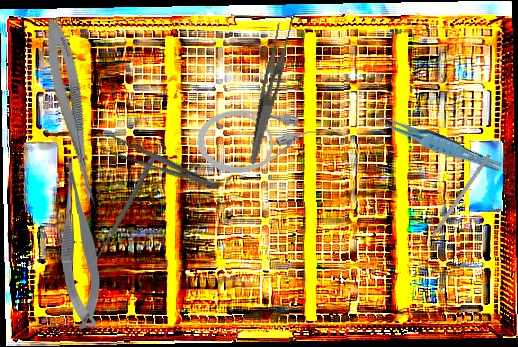Cannula: (198, 110, 317, 173)
Chopper: (415, 150, 492, 252)
Dressing Forceps: (95, 130, 224, 197), (249, 13, 296, 168)
Micro Scissor: (38, 15, 109, 210), (58, 156, 102, 330)
Surgical Spoon: (88, 155, 157, 271)
Tissue Forceps: (371, 103, 503, 181)
